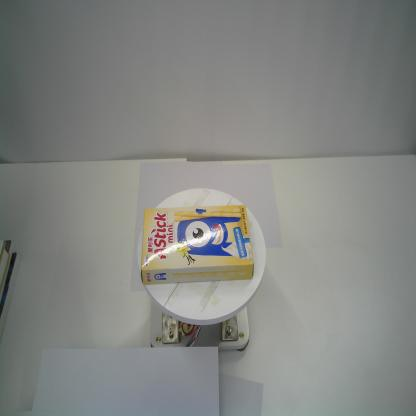Dessert: (140, 203, 255, 287)
